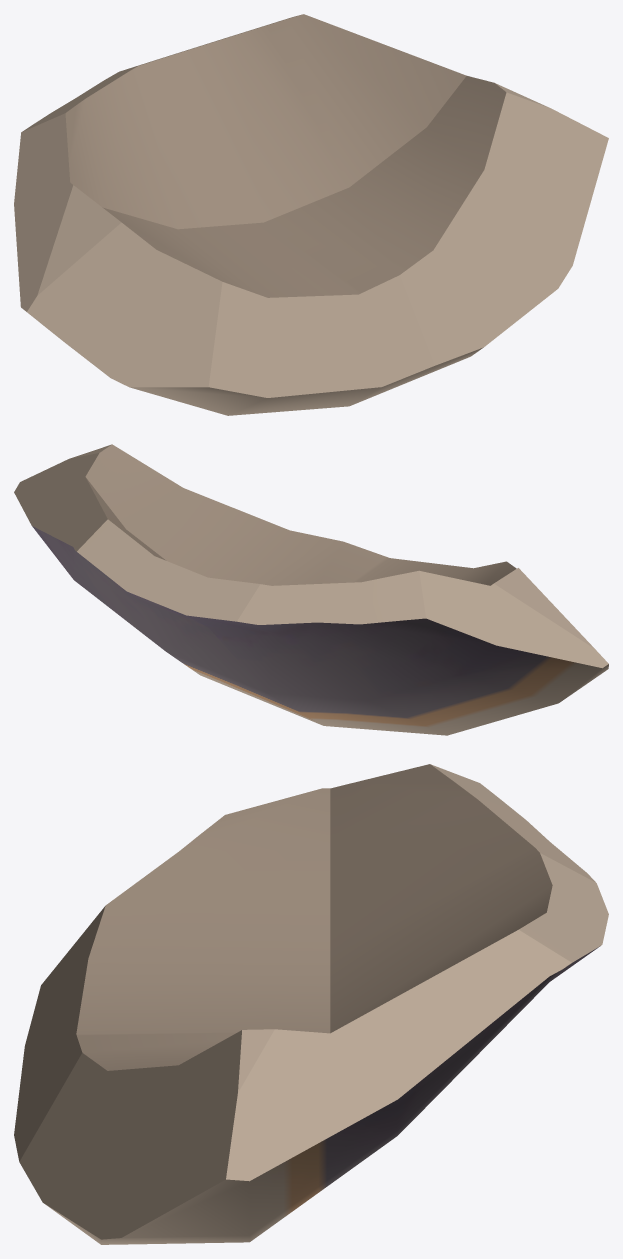
The model's file is Pot_Cell7.fbx.
3 renders of one model, top to bottom at view 1: azimuth 30°, elevation 25°; view 2: azimuth 150°, elevation 25°; view 3: azimuth 270°, elevation 25°, orthographic. The views are drawn at different scales.
Visible parts, largest first — view 1: jar1_cell.007; view 2: jar1_cell.007; view 3: jar1_cell.007.
Part boxes in pixels (x1,y1,x2,y2): jar1_cell.007: [14, 14, 608, 415]; jar1_cell.007: [14, 444, 608, 735]; jar1_cell.007: [14, 764, 608, 1244].
Bounding box in the file's own units: 177 × 73.44 × 118.
